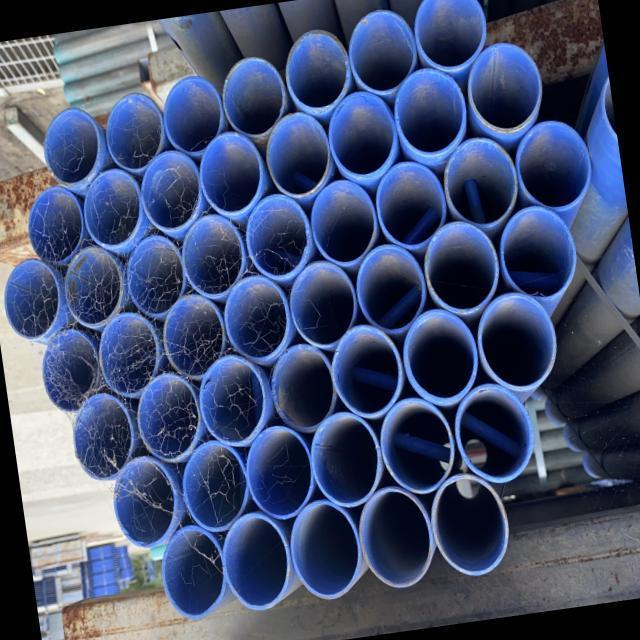pipe: (454, 385, 531, 483), (432, 477, 509, 574), (221, 513, 297, 610), (291, 500, 363, 599), (360, 488, 431, 587), (480, 296, 555, 388), (501, 204, 575, 296), (162, 525, 230, 619), (309, 416, 381, 504), (427, 221, 499, 309), (384, 400, 453, 491), (244, 427, 312, 519), (333, 323, 400, 416), (405, 309, 475, 397), (446, 135, 516, 222), (519, 120, 590, 205), (471, 41, 542, 126), (198, 354, 263, 442), (375, 160, 443, 244), (397, 67, 465, 151), (112, 456, 175, 545), (136, 371, 199, 460), (350, 5, 415, 91), (72, 389, 133, 480), (272, 345, 338, 429), (328, 90, 394, 174), (184, 445, 249, 529), (266, 110, 328, 193), (358, 249, 424, 326), (244, 196, 307, 275), (291, 263, 353, 343), (285, 27, 347, 107), (201, 131, 262, 211), (311, 183, 374, 260), (64, 242, 121, 327), (222, 55, 283, 134), (41, 329, 99, 412), (183, 216, 242, 296), (104, 90, 162, 170), (100, 313, 156, 395), (127, 234, 185, 313), (165, 296, 223, 374), (416, 0, 486, 64), (42, 104, 99, 182), (225, 279, 285, 353), (163, 72, 219, 151), (142, 152, 200, 228), (83, 168, 140, 244), (4, 258, 57, 338), (28, 188, 81, 265)
